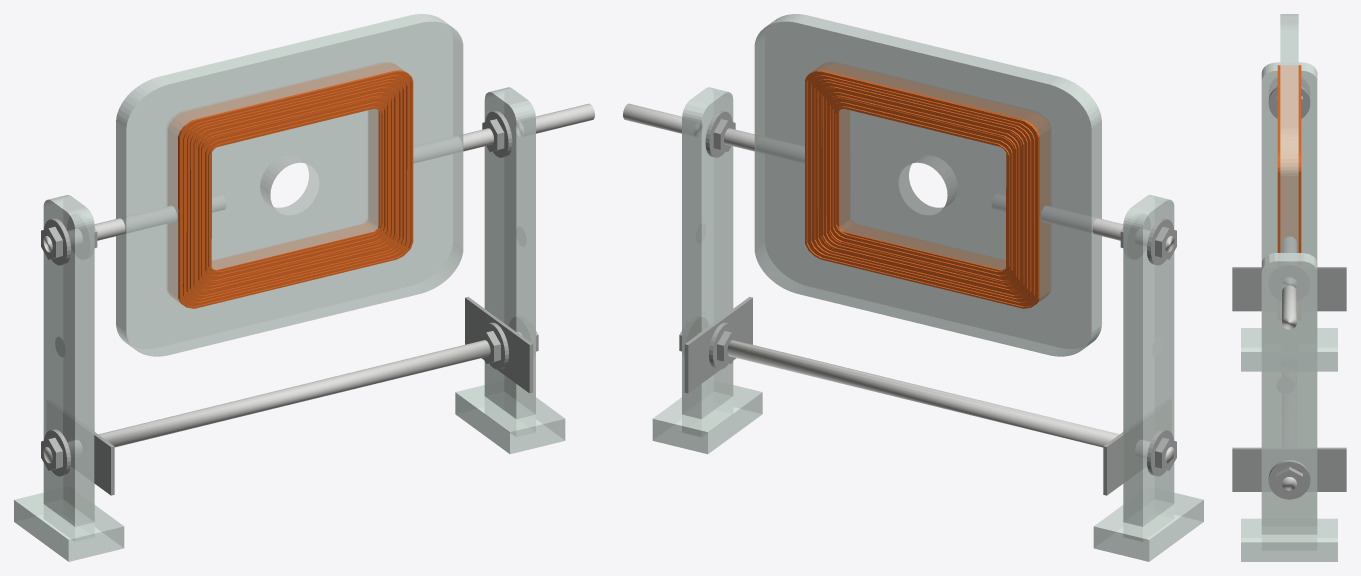
Rendered from coil.glb.
3 renders of one model, left to right at view 1: azimuth 30°, elevation 25°; view 2: azimuth 150°, elevation 25°; view 3: azimuth 270°, elevation 25°, orthographic. The views are drawn at different scales.
Visible parts, largest first — view 1: frame.017, stand, axis, handle; view 2: frame.017, stand, axis, handle; view 3: stand, frame.017, handle, axis.
Part boxes in pixels (<box>): frame.017: <box>116,14,463,356</box>; stand: <box>14,87,565,561</box>; axis: <box>43,128,493,252</box>; handle: <box>515,103,594,136</box>; frame.017: <box>754,14,1101,356</box>; stand: <box>652,87,1203,561</box>; axis: <box>724,128,1174,252</box>; handle: <box>623,103,702,136</box>; stand: <box>1232,62,1346,561</box>; frame.017: <box>1277,14,1301,252</box>; handle: <box>1282,285,1296,329</box>; axis: <box>1282,237,1296,287</box>.
Size of the model in its own units: 62.59 by 46.98 by 12.79.
